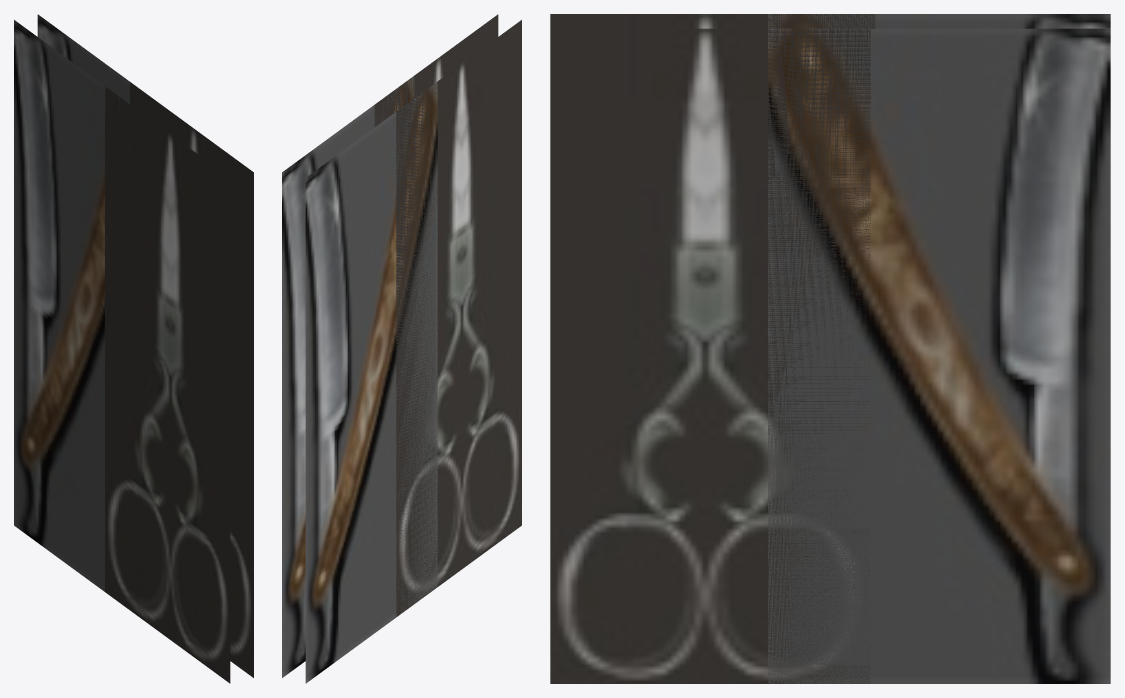
File: sign1_spanish_c_icon_barber.fbx
3 renders of one model, left to right at view 1: azimuth 30°, elevation 25°; view 2: azimuth 150°, elevation 25°; view 3: azimuth 270°, elevation 25°, orthographic. The views are drawn at different scales.
Parts seen in each view (by area): view 1: icon_scissors, icon_razor; view 2: icon_razor, icon_scissors; view 3: icon_razor, icon_scissors.
Boxes of the visible parts, left/top/right/bottom form: icon_scissors: left=105, top=82, right=253, bottom=683; icon_razor: left=14, top=14, right=142, bottom=591; icon_razor: left=282, top=76, right=437, bottom=683; icon_scissors: left=374, top=14, right=521, bottom=616; icon_razor: left=768, top=14, right=1110, bottom=683; icon_scissors: left=550, top=14, right=875, bottom=683.
Size of the model in its own units: 16.67 by 345 by 267.
1 material, 1 textured.
